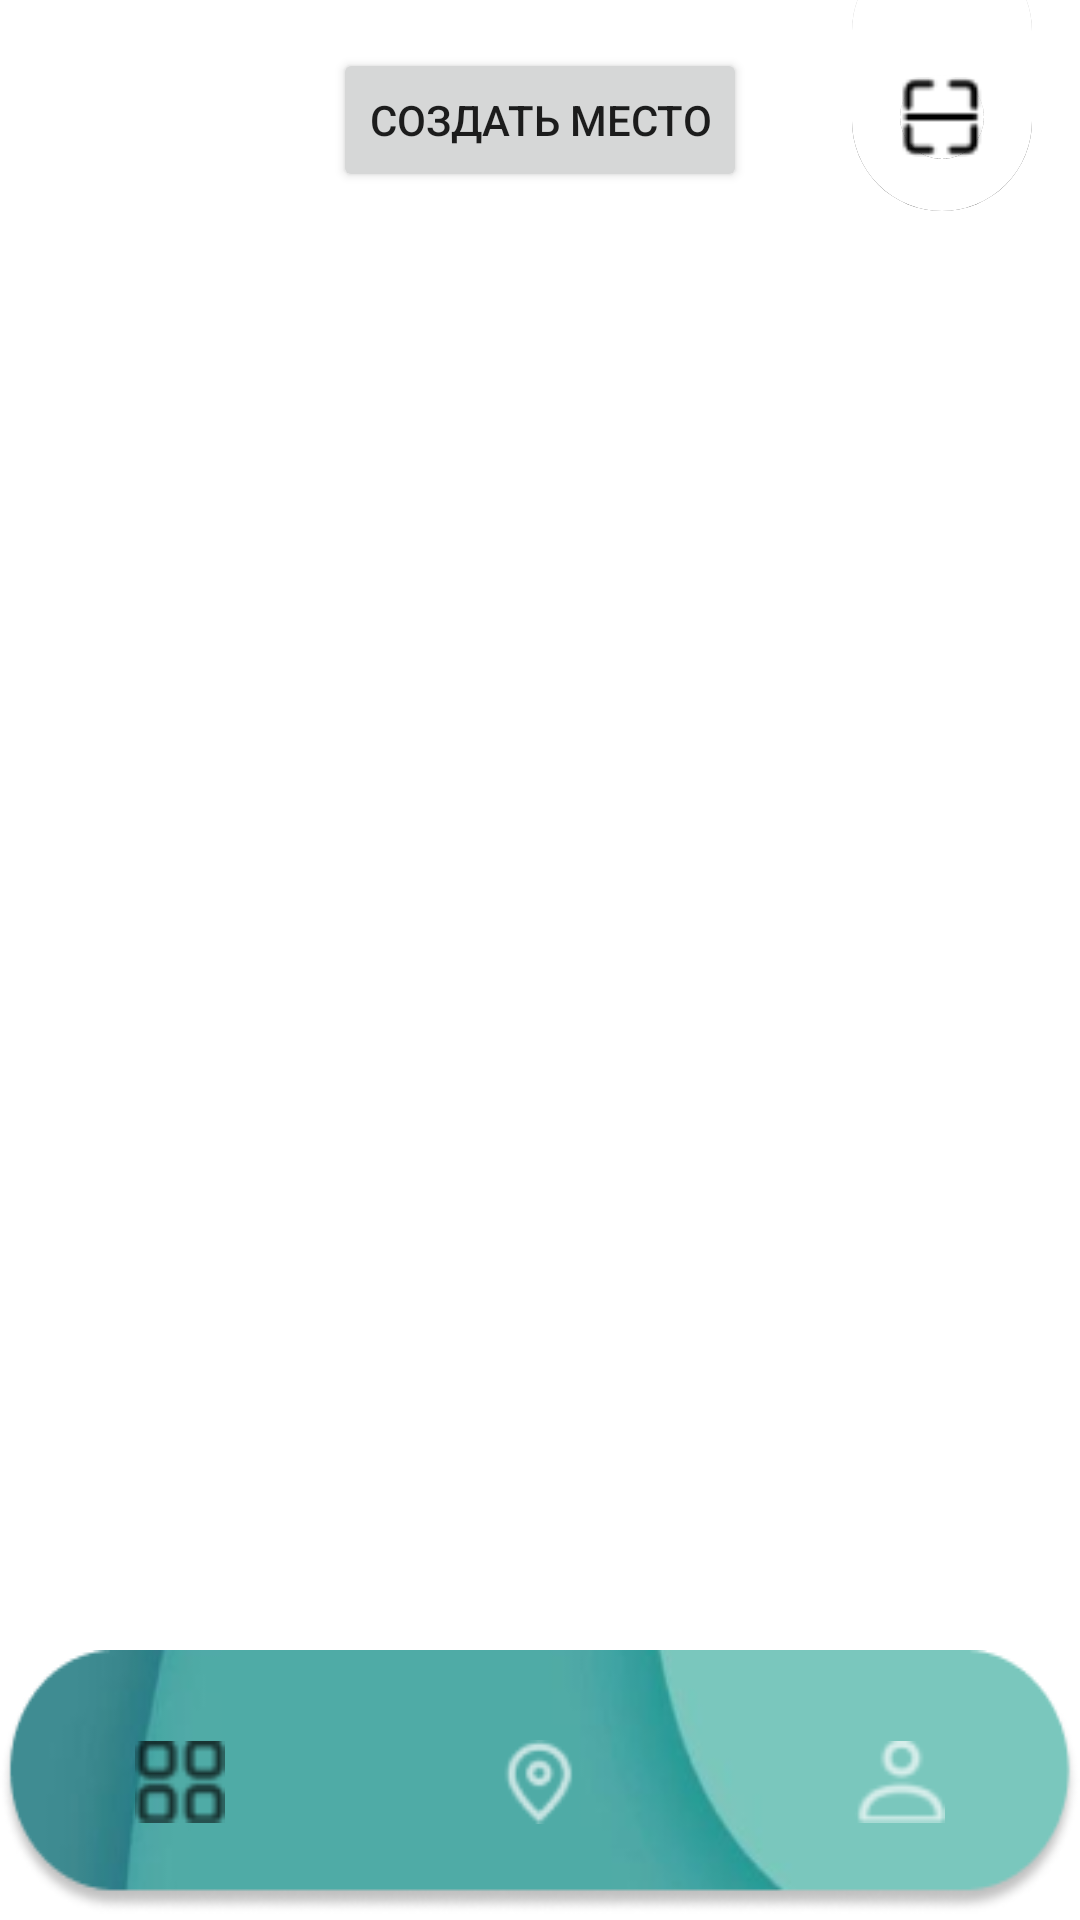

Where to tap for icons on this 1080x1920 app screen, as [x,y]:
scan: [942,118]
